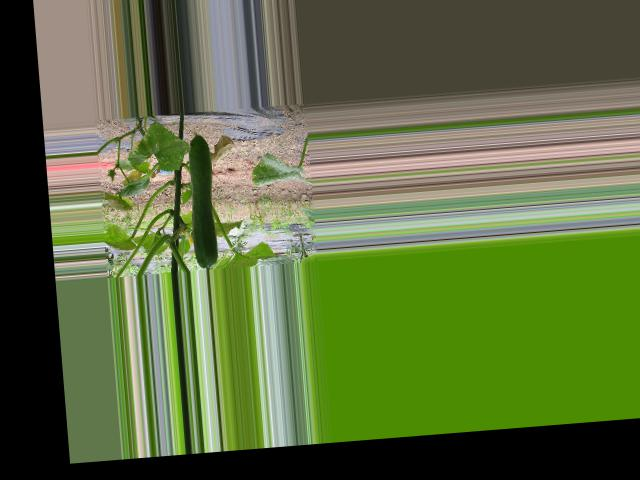cucumber: (184, 130, 220, 268)
